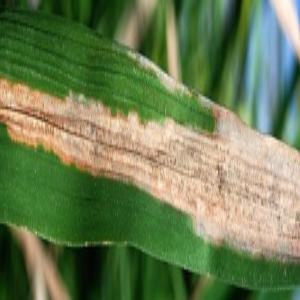Hawar Daun: (94, 110, 211, 198), (216, 151, 300, 272), (1, 82, 100, 177)
